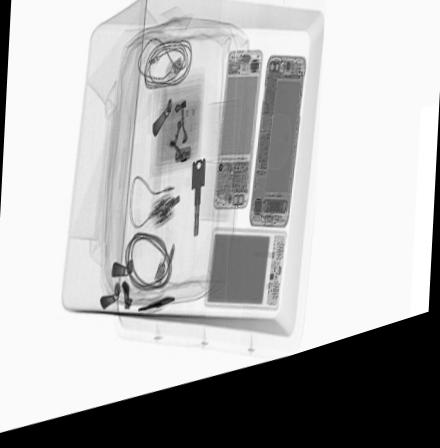Powerbank: (202, 242, 286, 331)
